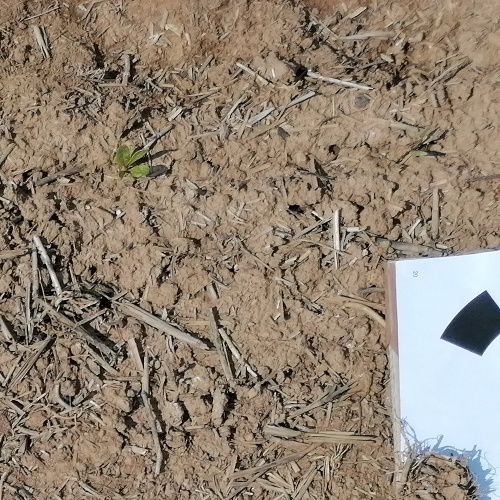beet: (114, 145, 152, 177)
